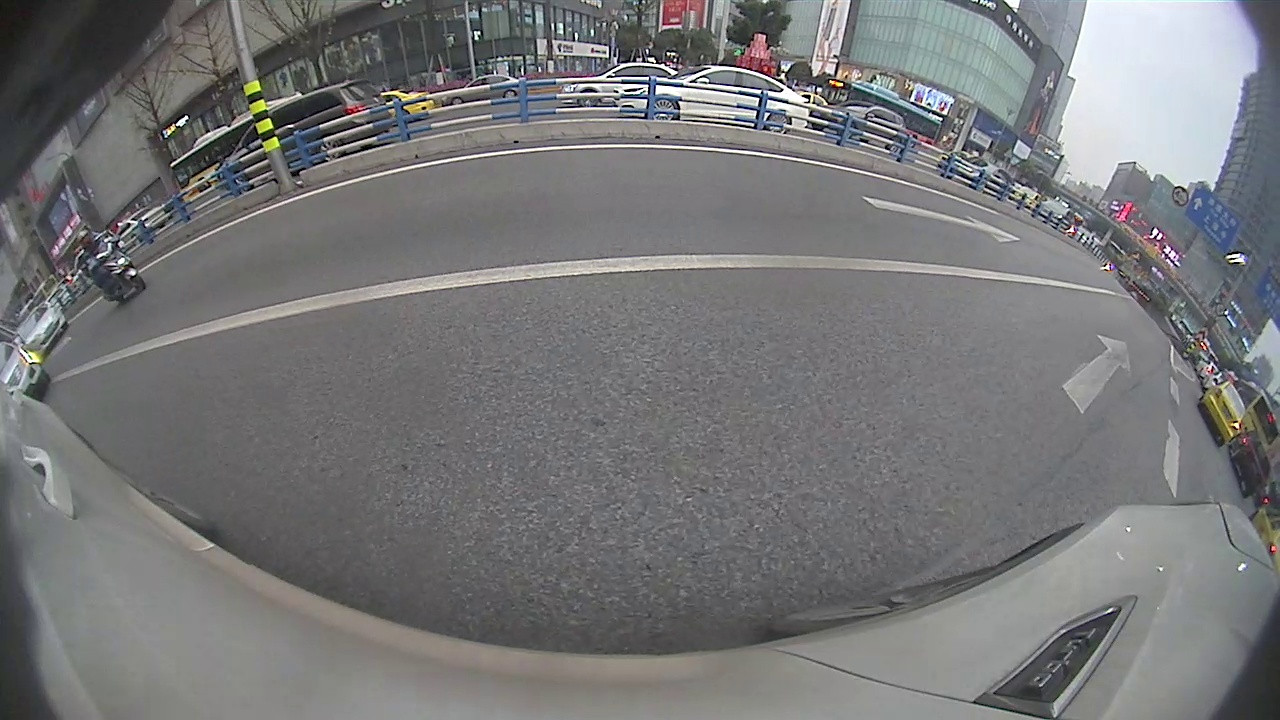car: (216, 75, 393, 197), (611, 63, 812, 136), (557, 61, 678, 110), (807, 97, 909, 155), (1196, 378, 1250, 447)
front: (650, 97, 680, 122), (576, 89, 601, 110)
rear: (762, 109, 789, 137), (317, 137, 344, 163)
rider: (69, 226, 149, 306)
